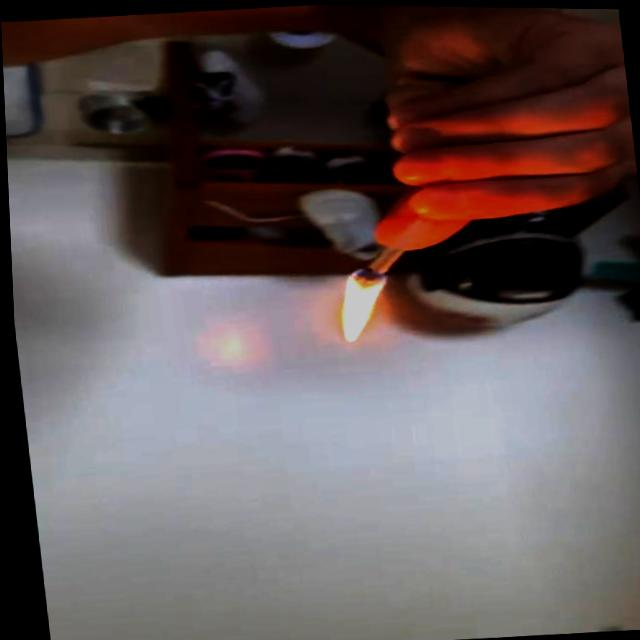helmet: (325, 261, 395, 350)
